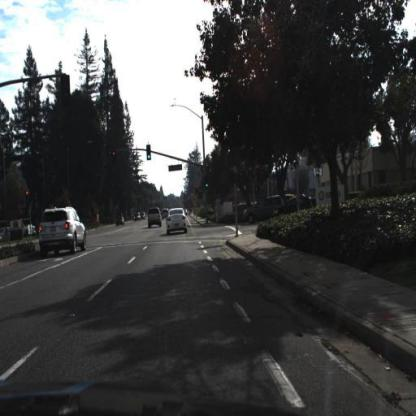car: (36, 204, 90, 260), (271, 194, 316, 223), (242, 193, 284, 223), (167, 208, 189, 236), (147, 206, 163, 228), (160, 208, 172, 222), (117, 215, 126, 228), (134, 215, 140, 223), (140, 212, 146, 220)
trafficLight-Green: (147, 145, 152, 162), (147, 146, 152, 162), (205, 180, 210, 193), (206, 179, 211, 192)
trafficLight-RedLeft: (112, 148, 120, 162), (25, 188, 31, 202), (26, 189, 31, 205), (113, 149, 118, 163)
